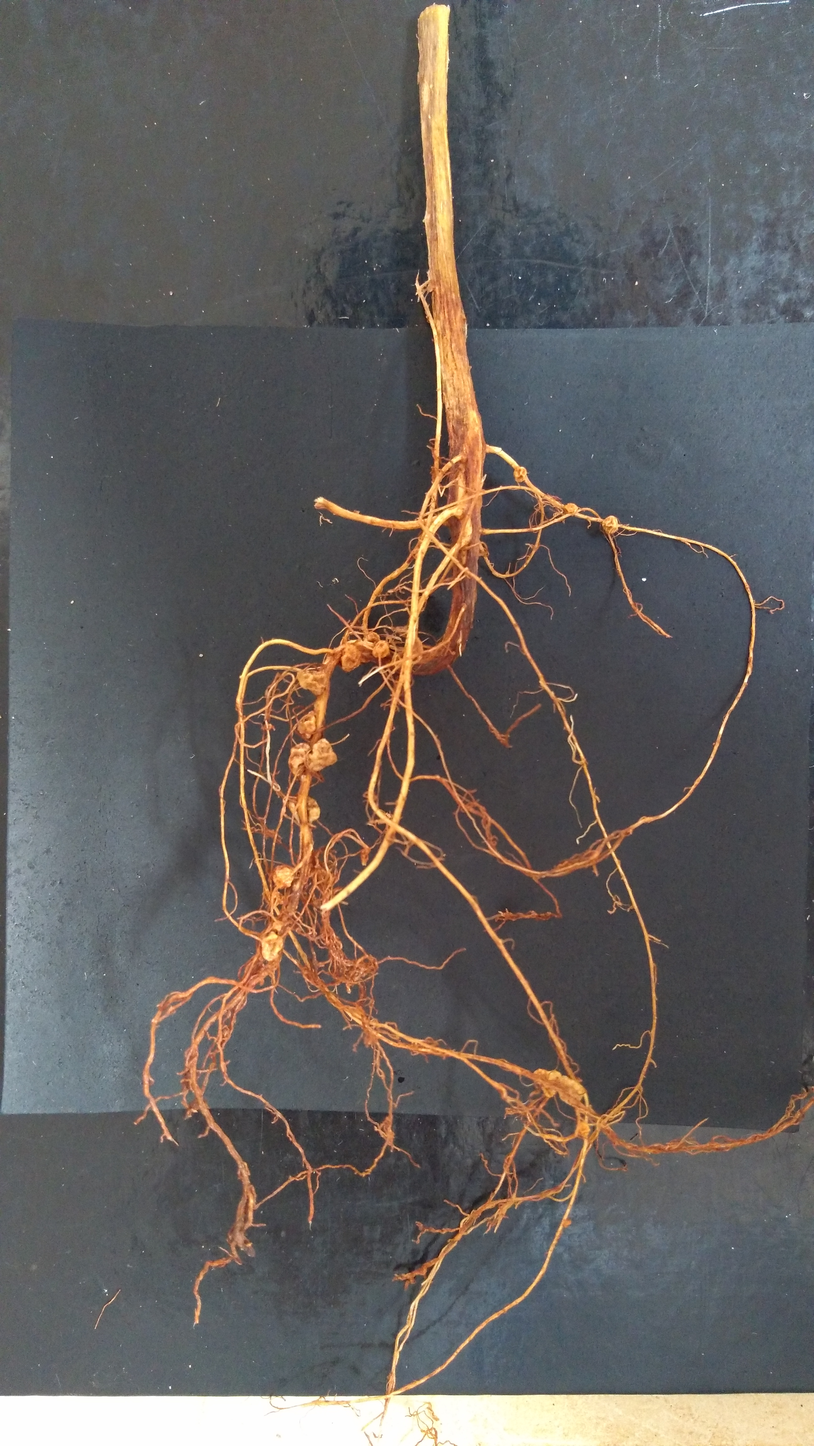nodule: (306, 736, 339, 772), (287, 793, 322, 824), (532, 1065, 563, 1099), (556, 1075, 586, 1107), (286, 741, 311, 777), (295, 669, 328, 696), (337, 642, 363, 674), (259, 930, 284, 963), (296, 709, 317, 740), (271, 866, 295, 890), (371, 639, 392, 660), (600, 514, 620, 535), (512, 465, 528, 484), (575, 1120, 591, 1137), (364, 630, 382, 644), (562, 501, 579, 514), (272, 920, 285, 932), (561, 1218, 572, 1229)
